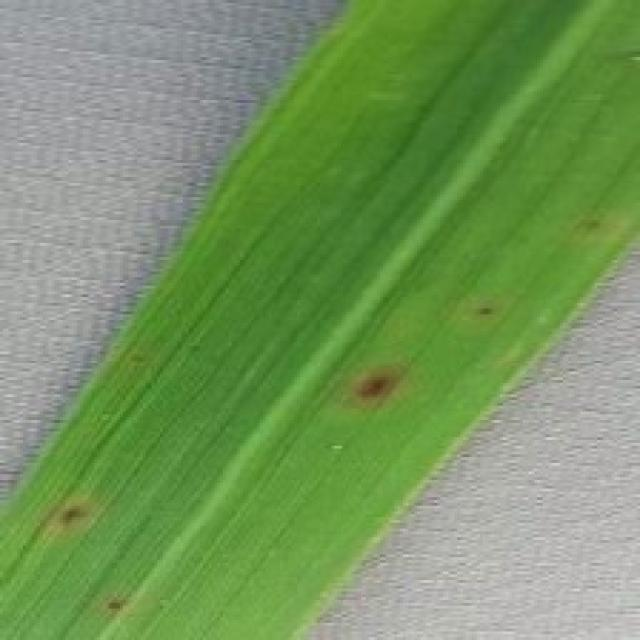Unhealthy: (341, 357, 412, 414), (39, 492, 97, 541), (101, 586, 132, 621), (464, 300, 501, 322)
